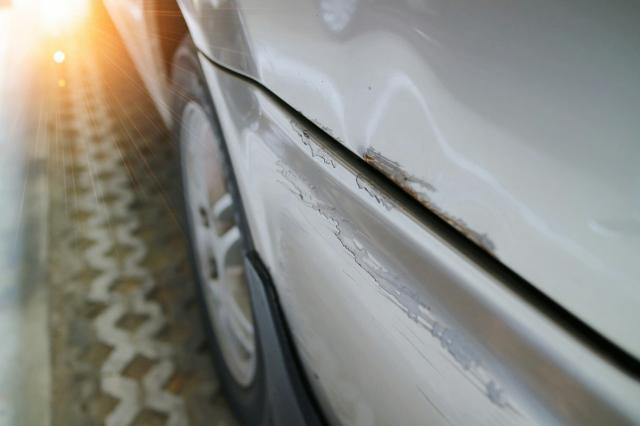Bumper: (275, 112, 548, 420)
